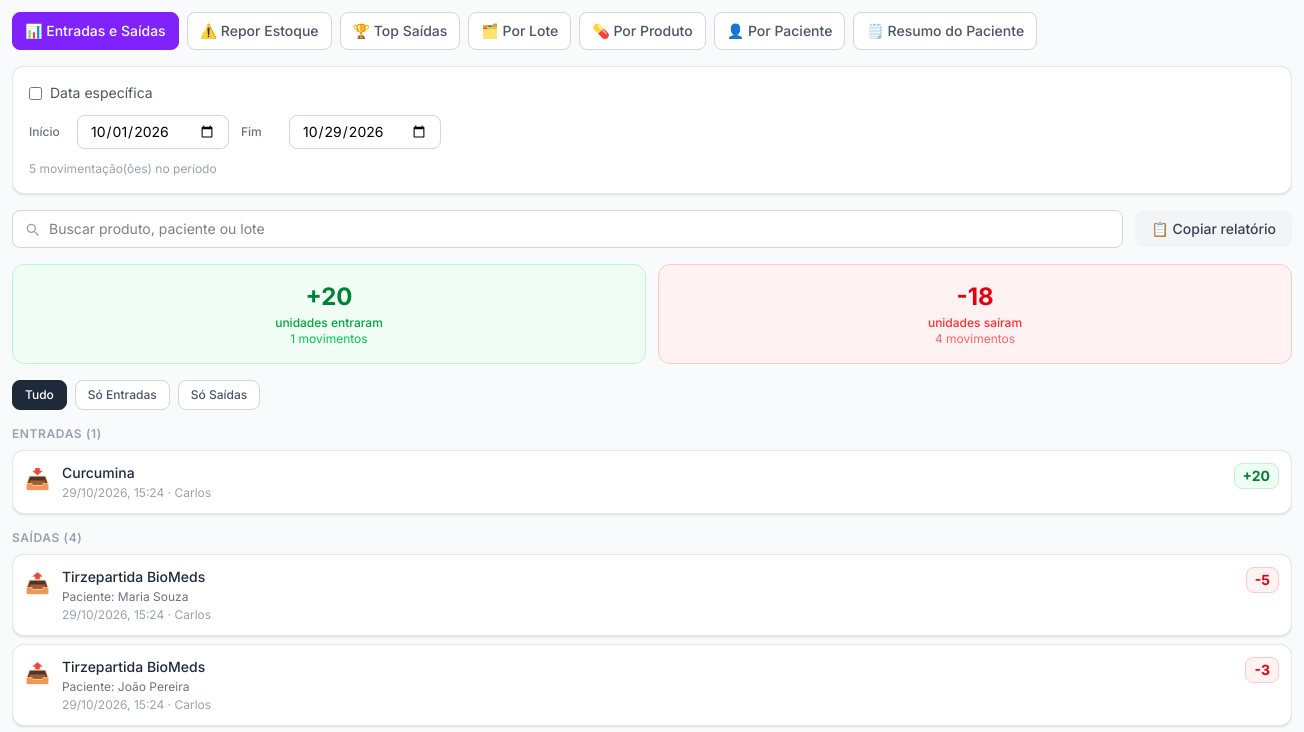
Test case: RelatoriosTab — busca › Entradas e Saídas: filtra ignorando acento e caixa, e os totais acompanham
Type "TIRZEPARTIDA" into the search field at (568, 229), box [12,210,1123,248]
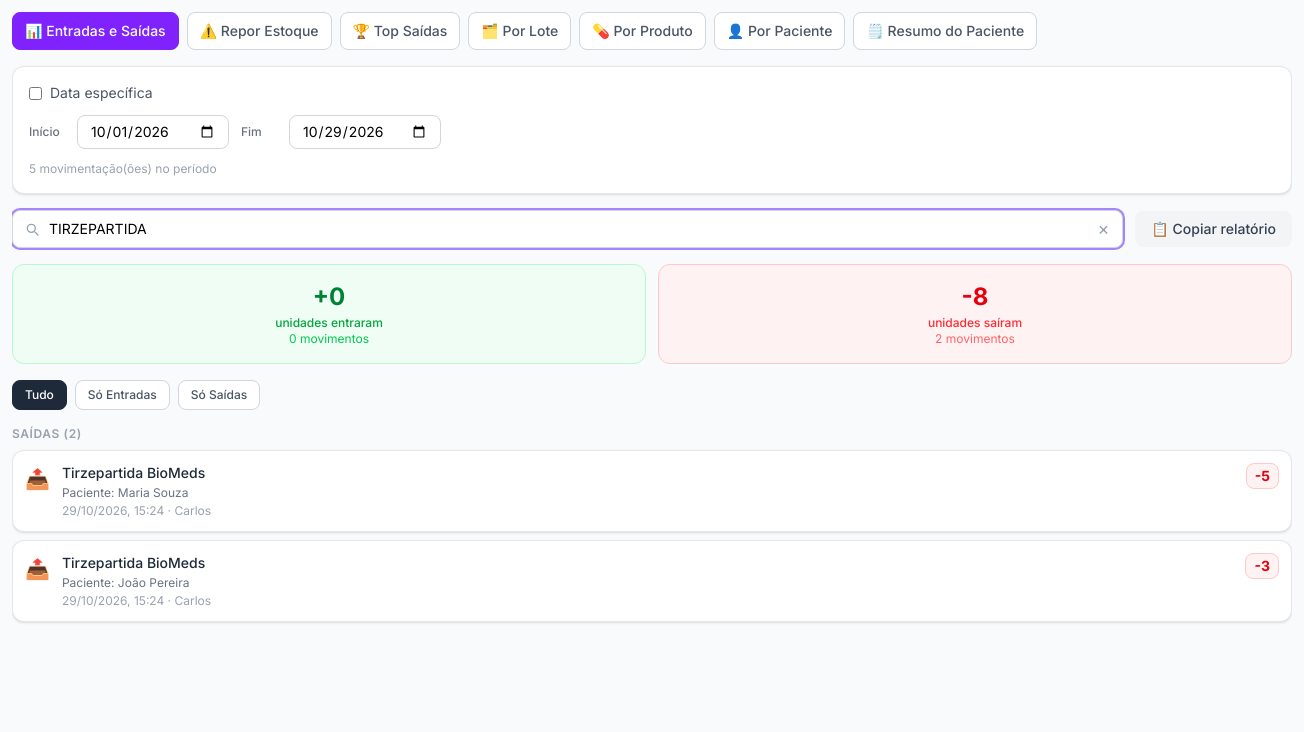
Check: the text "Tirzepartida BioMeds" is shown 2 times, box [62,464,205,481]; [62,554,205,571]
Check: the text "-8" is shown, box [962,282,988,311]
